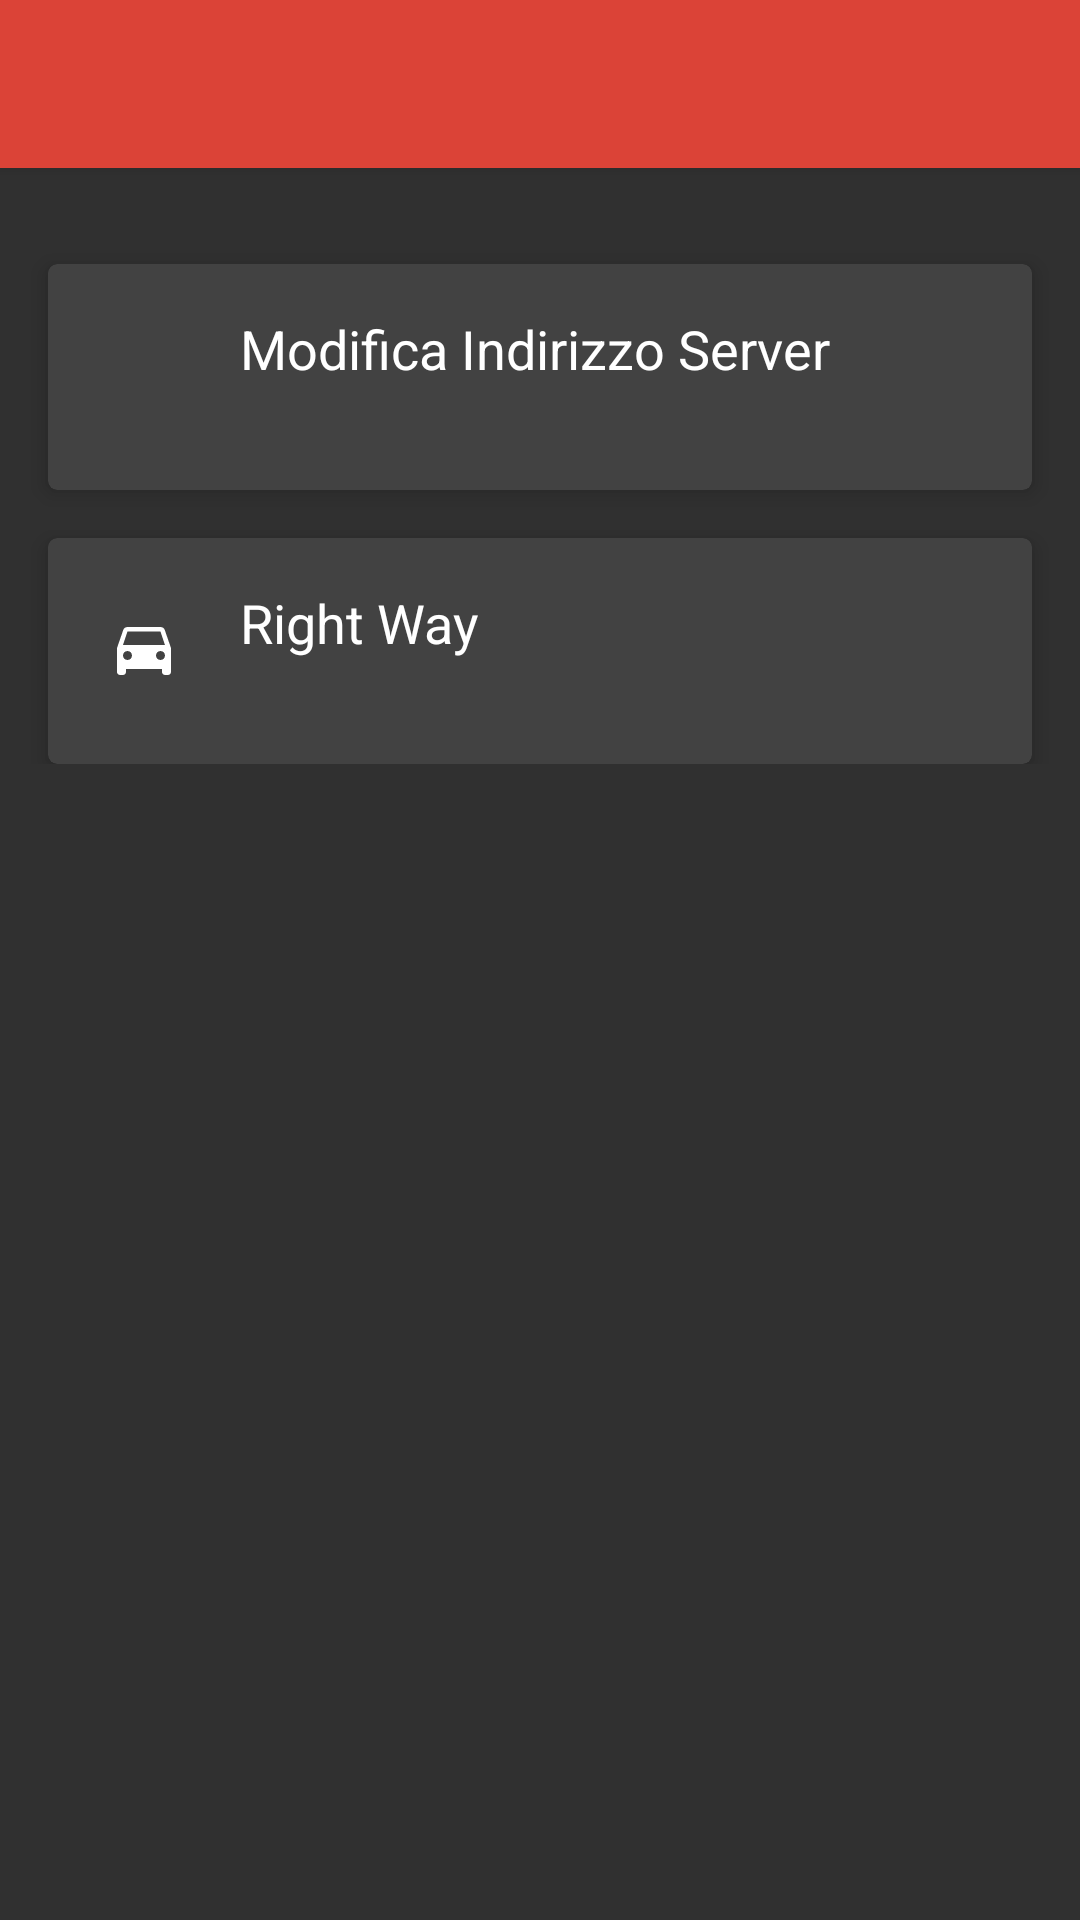

Where to tap for icons on this 1080x1920 app screen, as point (x, y):
auto: point (144, 651)
